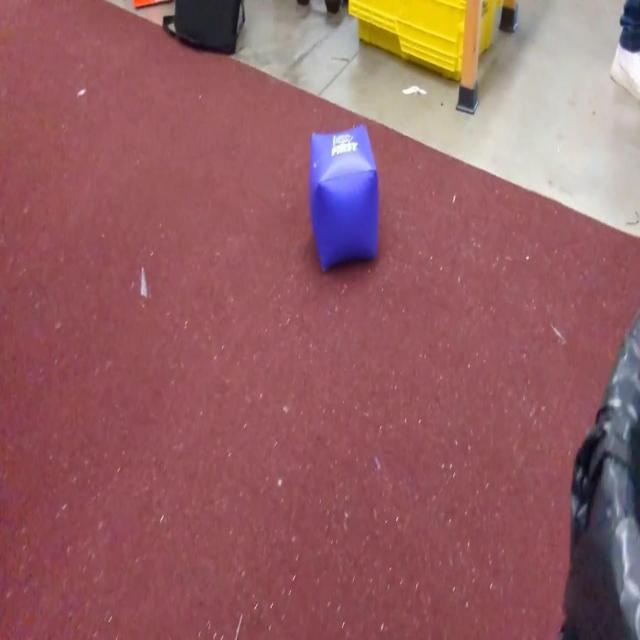frc_cube: (308, 118, 382, 275)
